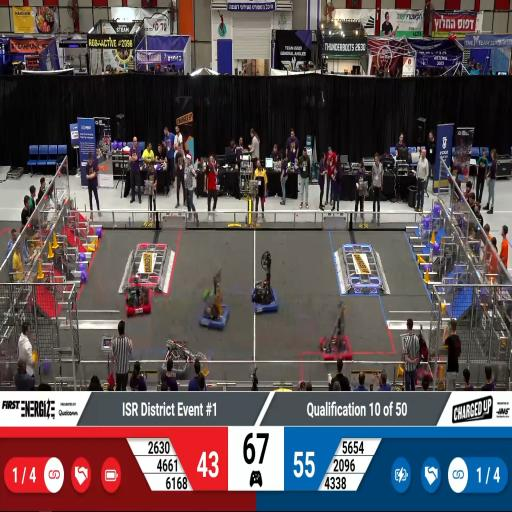robot: (316, 315, 353, 363), (200, 287, 231, 333), (251, 271, 279, 317), (162, 336, 191, 380), (125, 282, 153, 320)
